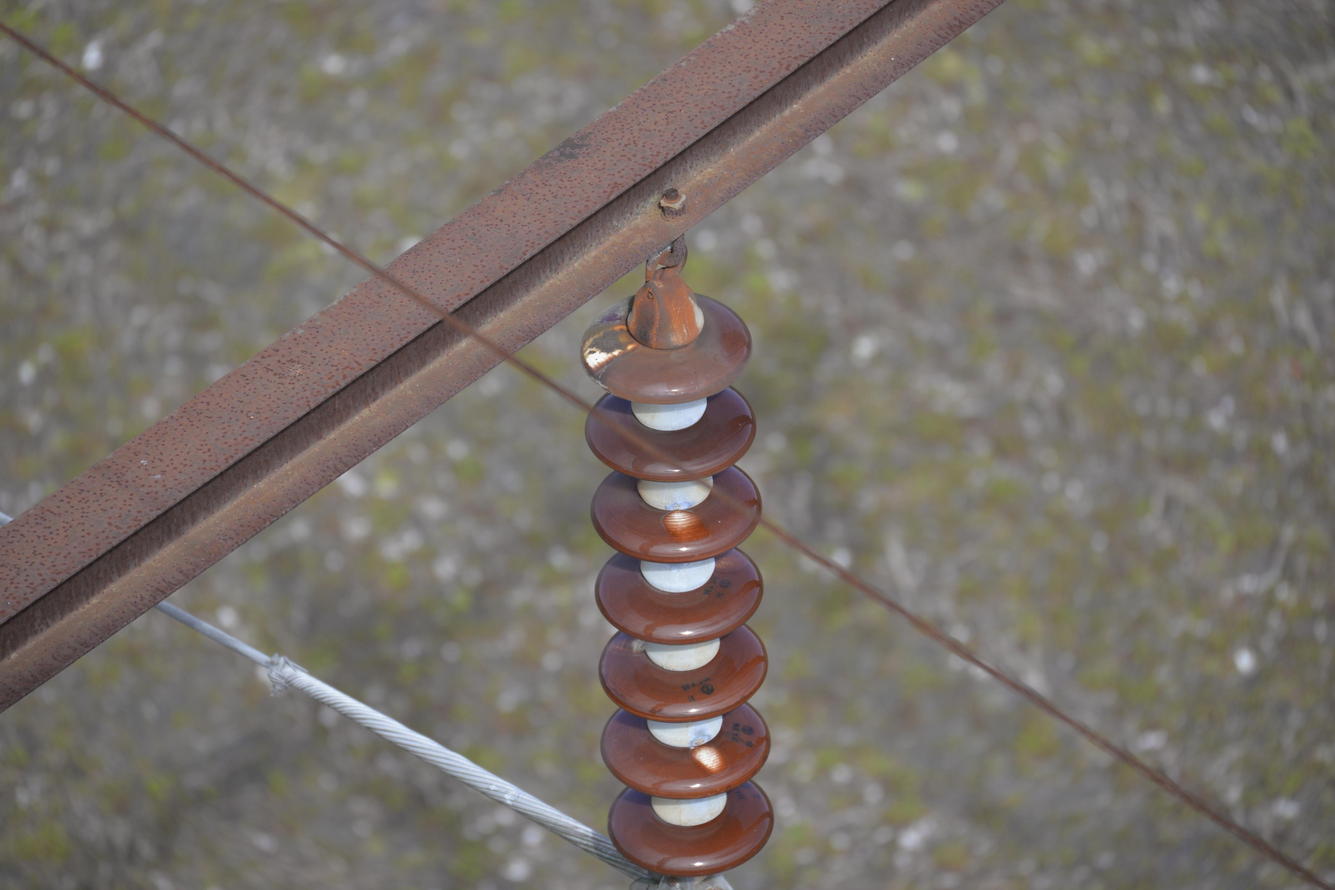Flashover: (583, 321, 642, 377), (660, 504, 708, 550), (690, 731, 728, 773), (607, 629, 653, 658), (713, 547, 750, 572)
insulator: (582, 292, 776, 874)
